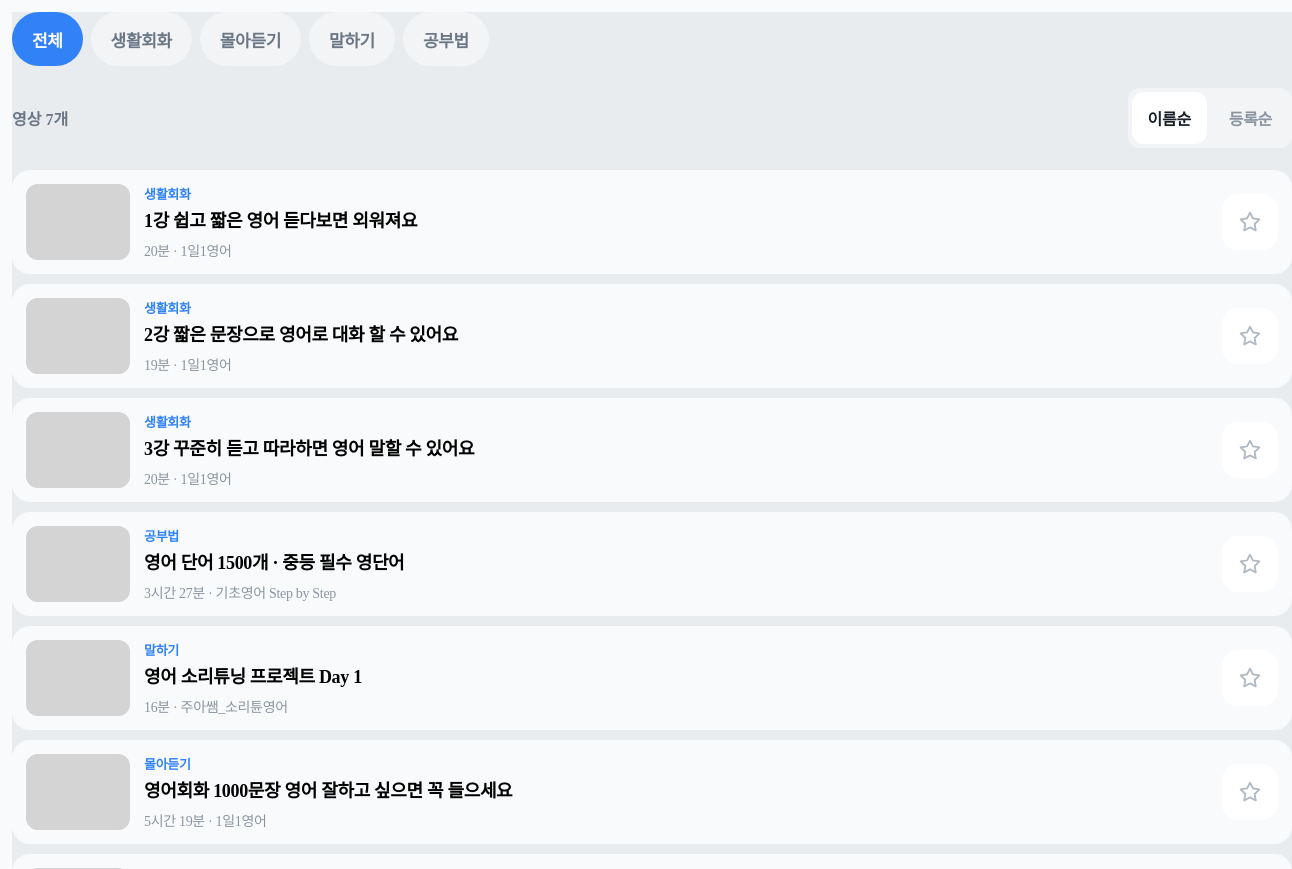
Test: 영상 화면 › 즐겨찾기 토글 시 토스트가 뜬다
Expected: the text "1강 쉽고 짧은 영어 듣다보면 외워져요" is shown, [144,211,417,231]
Click the button named "1강 쉽고 짧은 영어 듣다보면 외워져요 즐겨찾기".
click(1250, 222)  # box [1222,194,1278,250]
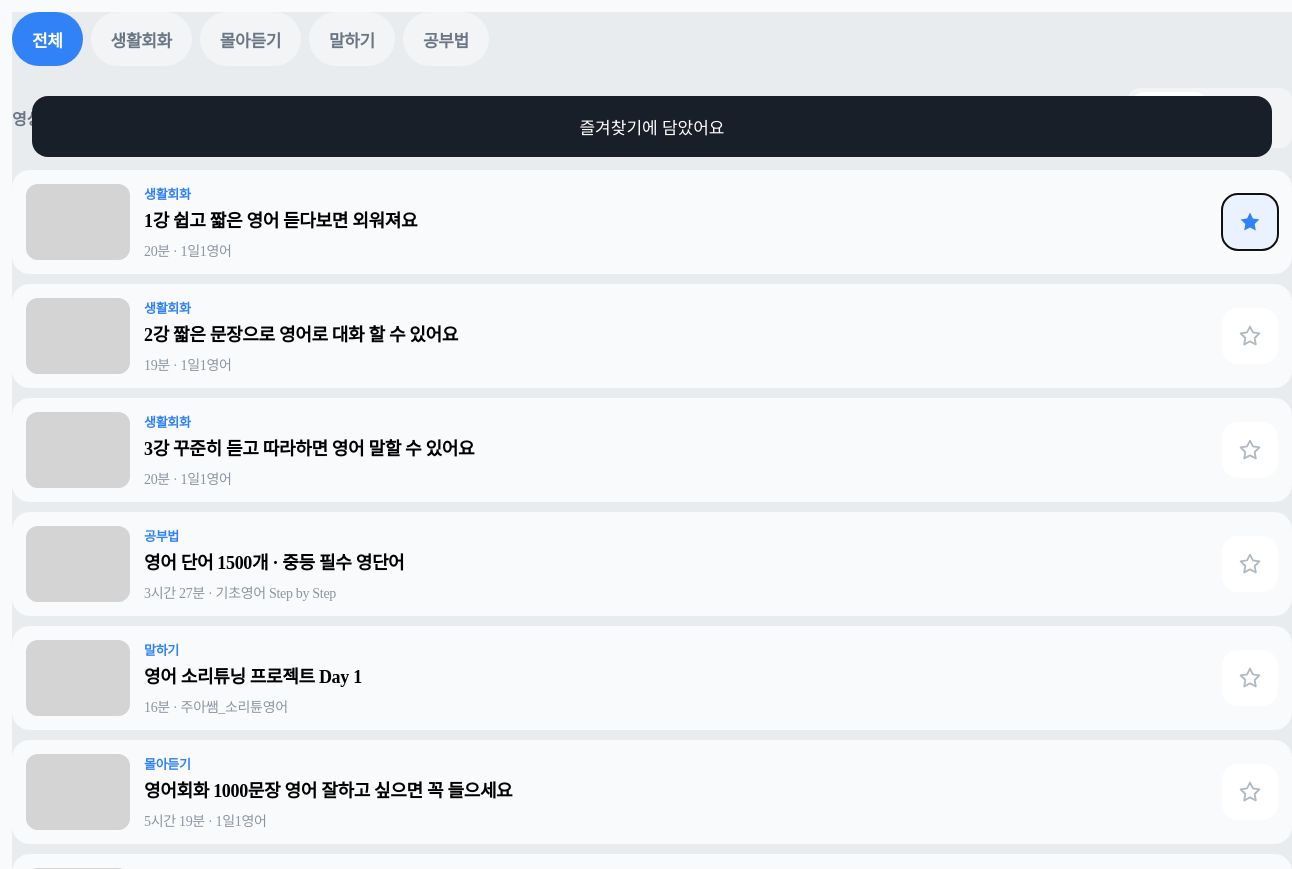
Result: the message reads "즐겨찾기에 담았어요" at [580,119,724,138]
